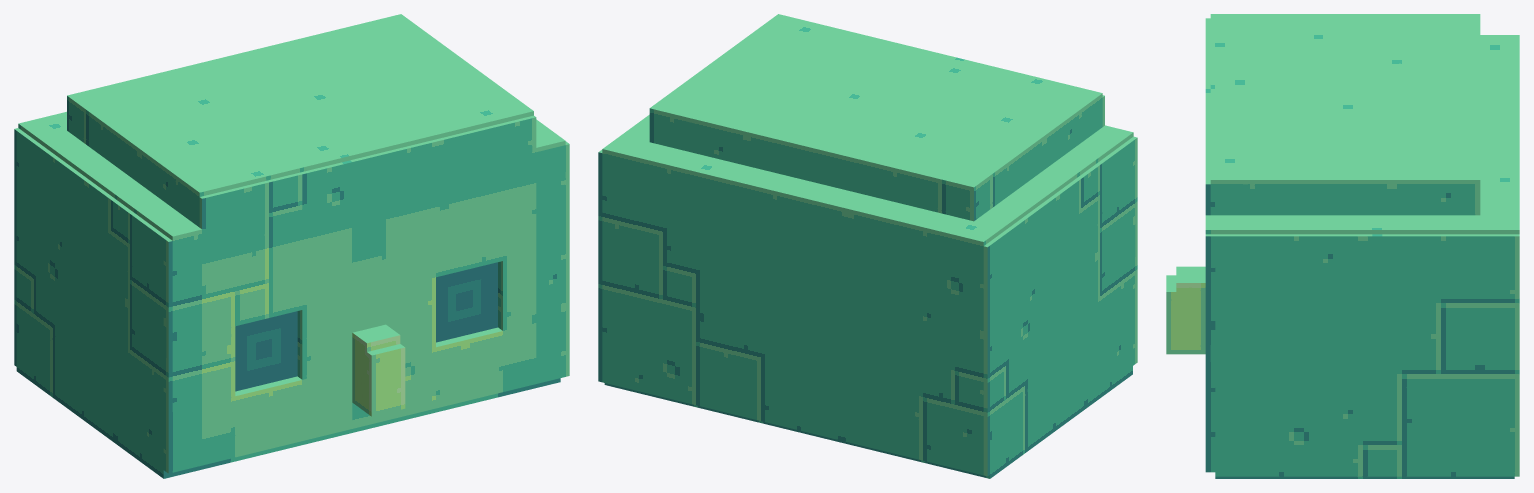
The model's file is big_owl_headao.fezao.glb.
3 views of the same model, side by side, from view 1: azimuth 30°, elevation 25°; view 2: azimuth 150°, elevation 25°; view 3: azimuth 270°, elevation 25° (orthographic). The views are drawn at different scales.
Visible parts, largest first — view 1: BIG_OWL_HEADAO; view 2: BIG_OWL_HEADAO; view 3: BIG_OWL_HEADAO.
Boxes of the visible parts, <box> form: BIG_OWL_HEADAO: <box>14,14,569,478</box>; BIG_OWL_HEADAO: <box>598,14,1137,478</box>; BIG_OWL_HEADAO: <box>1166,14,1519,478</box>.
Bounding box in the file's own units: 6 × 4 × 4.5.
1 material, 1 textured.
